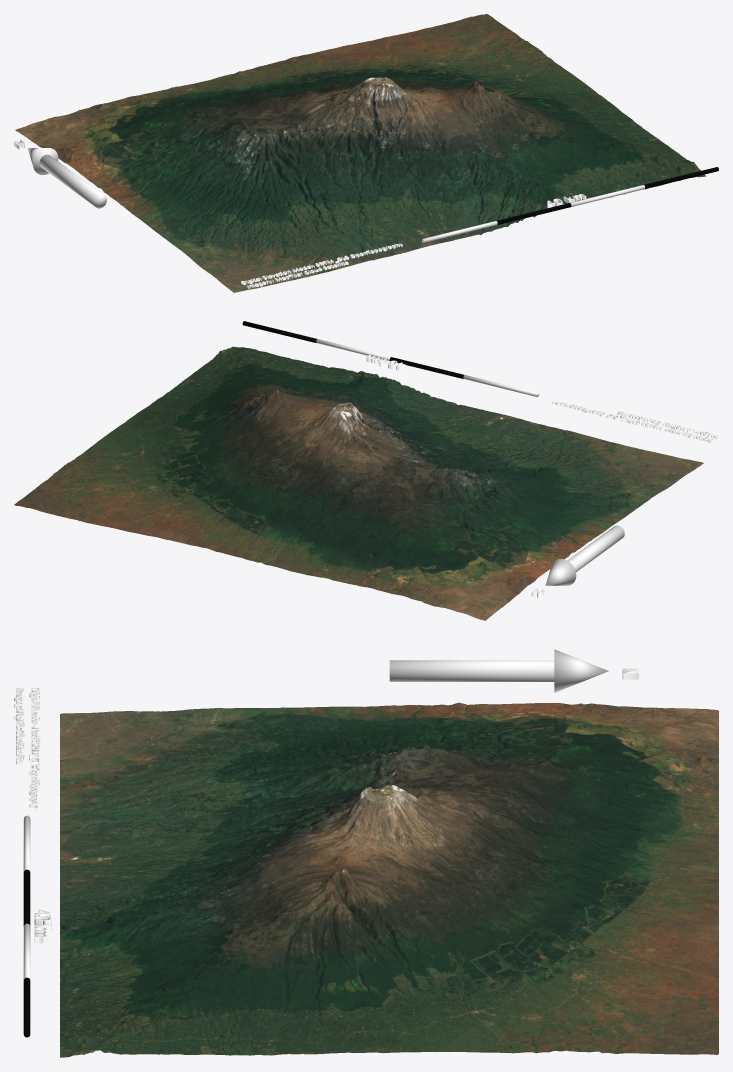
File: kilimanjaro.glb
3 renders of one model, top to bottom at view 1: azimuth 30°, elevation 25°; view 2: azimuth 150°, elevation 25°; view 3: azimuth 270°, elevation 25°, orthographic. The views are drawn at different scales.
Visible parts, largest first — view 1: TerrainNode_0, Adornments_1; view 2: TerrainNode_0, Adornments_1; view 3: TerrainNode_0, Adornments_1.
Boxes of the visible parts, x1,y1,x2,y2 form: TerrainNode_0: (15,14,706,292); Adornments_1: (14,140,718,288); TerrainNode_0: (14,346,703,620); Adornments_1: (242,321,718,597); TerrainNode_0: (60,702,718,1057); Adornments_1: (14,649,639,1037).
Size of the model in its own units: 69126 by 9808 by 55262.
2 materials, 1 textured.
